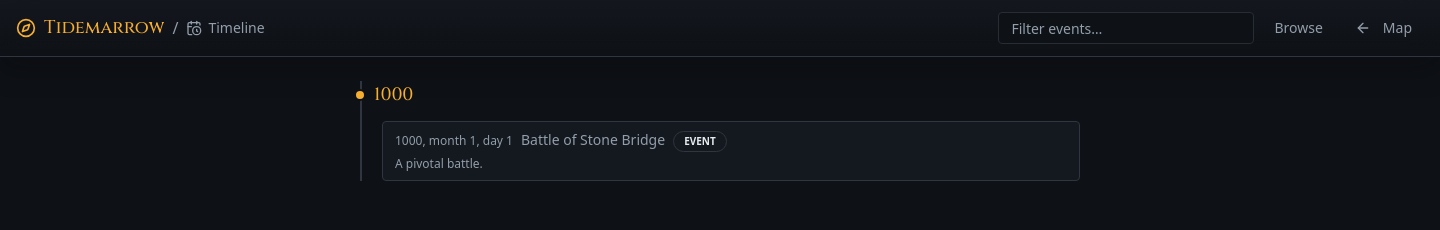
Test: AtlasTimeline — empty state › shows filter-no-match message when dated entries exist but filter excludes all
Type "xyzzy-no-match" into the field with placeholder "Filter events…" at (1126, 28), box [998,12,1254,44]
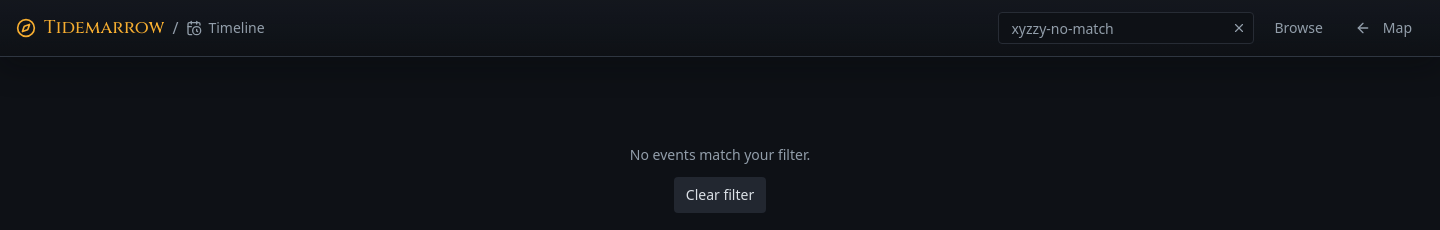
Now the text "No events match your filter." is shown, box [630,145,810,164]
